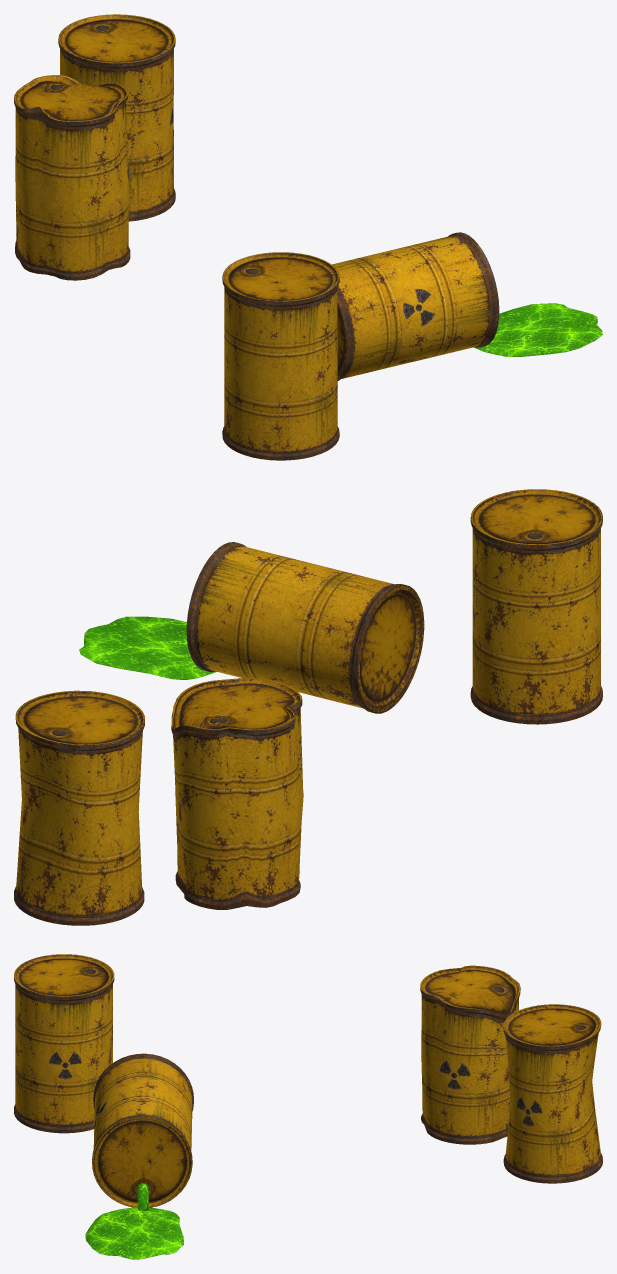
File: simple_barrel_lods.glb
3 views of the same model, one above another, from view 1: azimuth 30°, elevation 25°; view 2: azimuth 150°, elevation 25°; view 3: azimuth 270°, elevation 25° (orthographic). The views are drawn at different scales.
Parts seen in each view (by area): view 1: SLOD0, HitBarrel1, FLOD0, HitBarrel2, ToxicFluidLOD0; view 2: SLOD0, FLOD0, HitBarrel1, HitBarrel2, ToxicFluidLOD0; view 3: SLOD0, HitBarrel2, HitBarrel1, FLOD0, ToxicFluidLOD0.
Part boxes in pixels (x1,y1,x2,y2): SLOD0: [222, 252, 339, 460]; HitBarrel1: [14, 75, 130, 280]; FLOD0: [332, 232, 499, 380]; HitBarrel2: [58, 14, 175, 221]; ToxicFluidLOD0: [473, 303, 602, 356]; SLOD0: [470, 489, 602, 724]; FLOD0: [186, 542, 424, 713]; HitBarrel1: [171, 678, 303, 909]; HitBarrel2: [14, 690, 144, 925]; ToxicFluidLOD0: [79, 616, 216, 679]; SLOD0: [14, 954, 114, 1133]; HitBarrel2: [503, 1004, 602, 1183]; HitBarrel1: [420, 965, 520, 1144]; FLOD0: [92, 1053, 193, 1207]; ToxicFluidLOD0: [85, 1183, 183, 1259].
Size of what is drawn, in the model's own units: 8.27 by 3.21 by 12.06.
3 materials, 3 textured.
